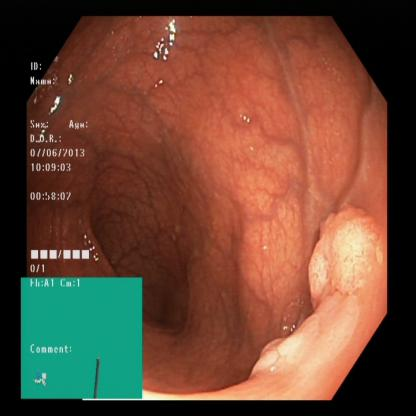Polyps: (305, 199, 385, 323)
